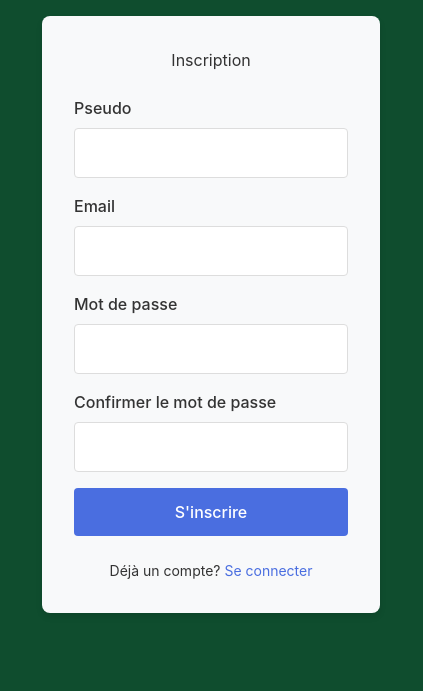
Test: Register Component › affiche un message d'erreur si l'API retourne 401
Type "testuser" into the field labelled "Pseudo". click: coordinates (211, 153)
box: [74,128,348,178]
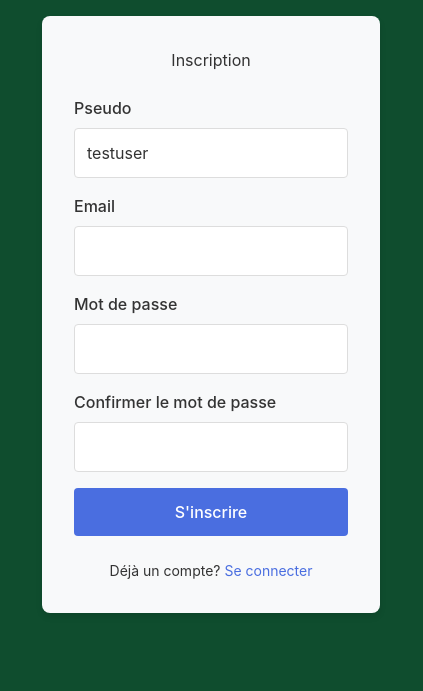
Type "test@example.com" into the field labelled "Email". click: coordinates (211, 251)
box: [74,226,348,276]
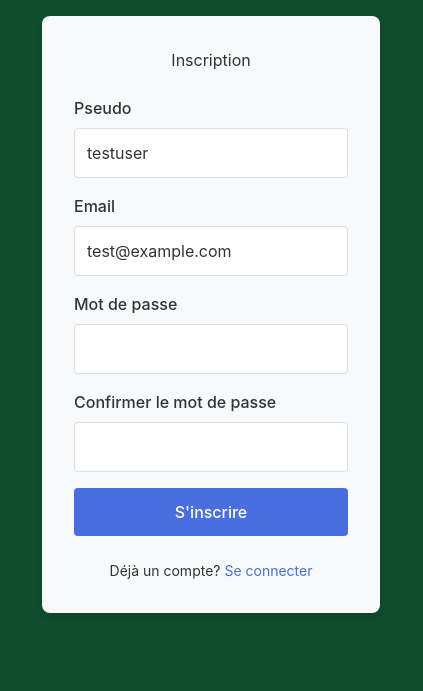
Type "Password123" into the password field labelled "Mot de passe". click: coordinates (211, 349)
box: [74,324,348,374]
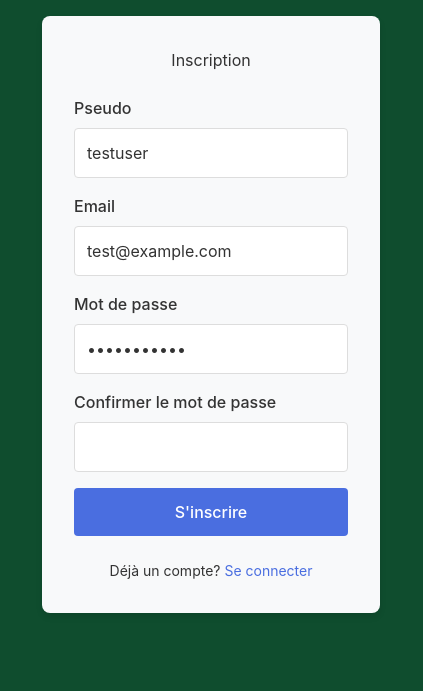
Type "Password123" into the password field labelled "Confirmer le mot de passe". click: coordinates (211, 447)
box: [74,422,348,472]
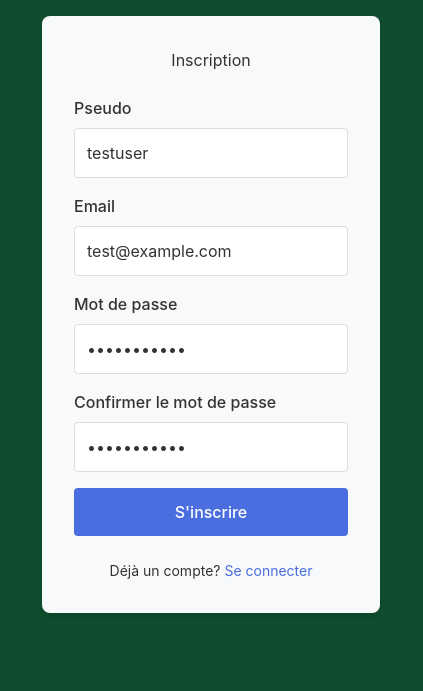
Click the button "S'inscrire". click: coordinates (211, 512)
box: [74,488,348,536]
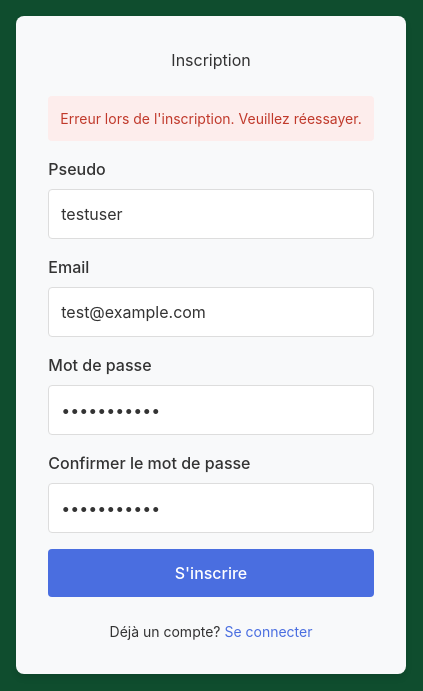
Check: the text "Erreur lors de l'inscription. Veuillez réessayer." is shown, box [48,96,374,141]
